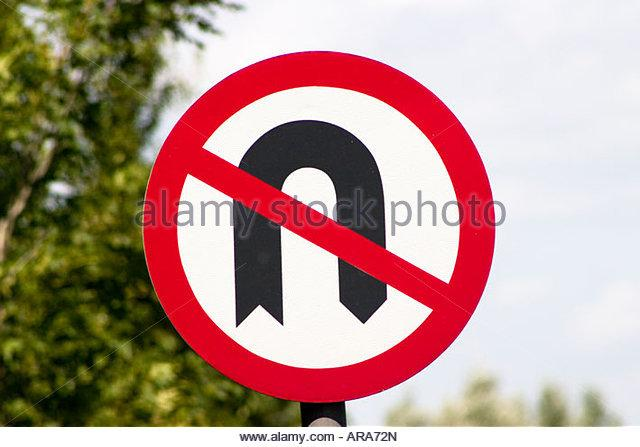no_u_turn: (142, 51, 495, 401)
